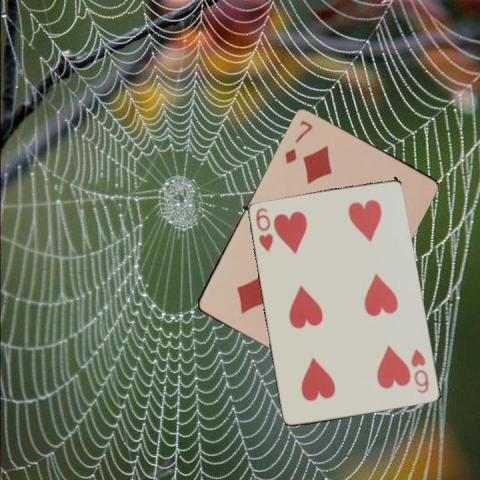6h: (408, 346, 431, 395), (253, 204, 274, 252)
7d: (281, 117, 314, 165)
